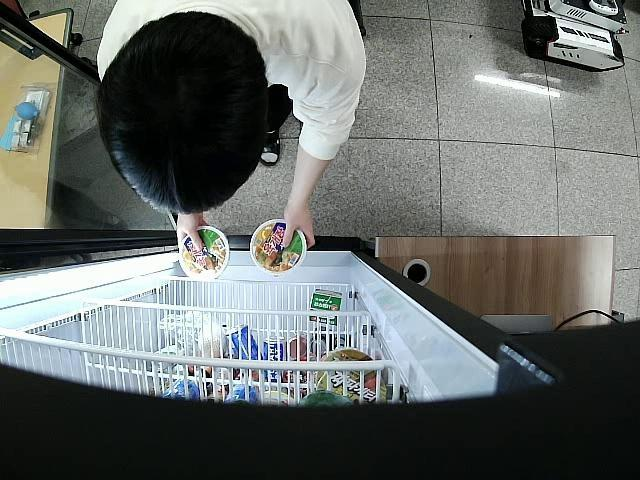09_yukGaeJang: (250, 220, 306, 274), (178, 226, 230, 279)
